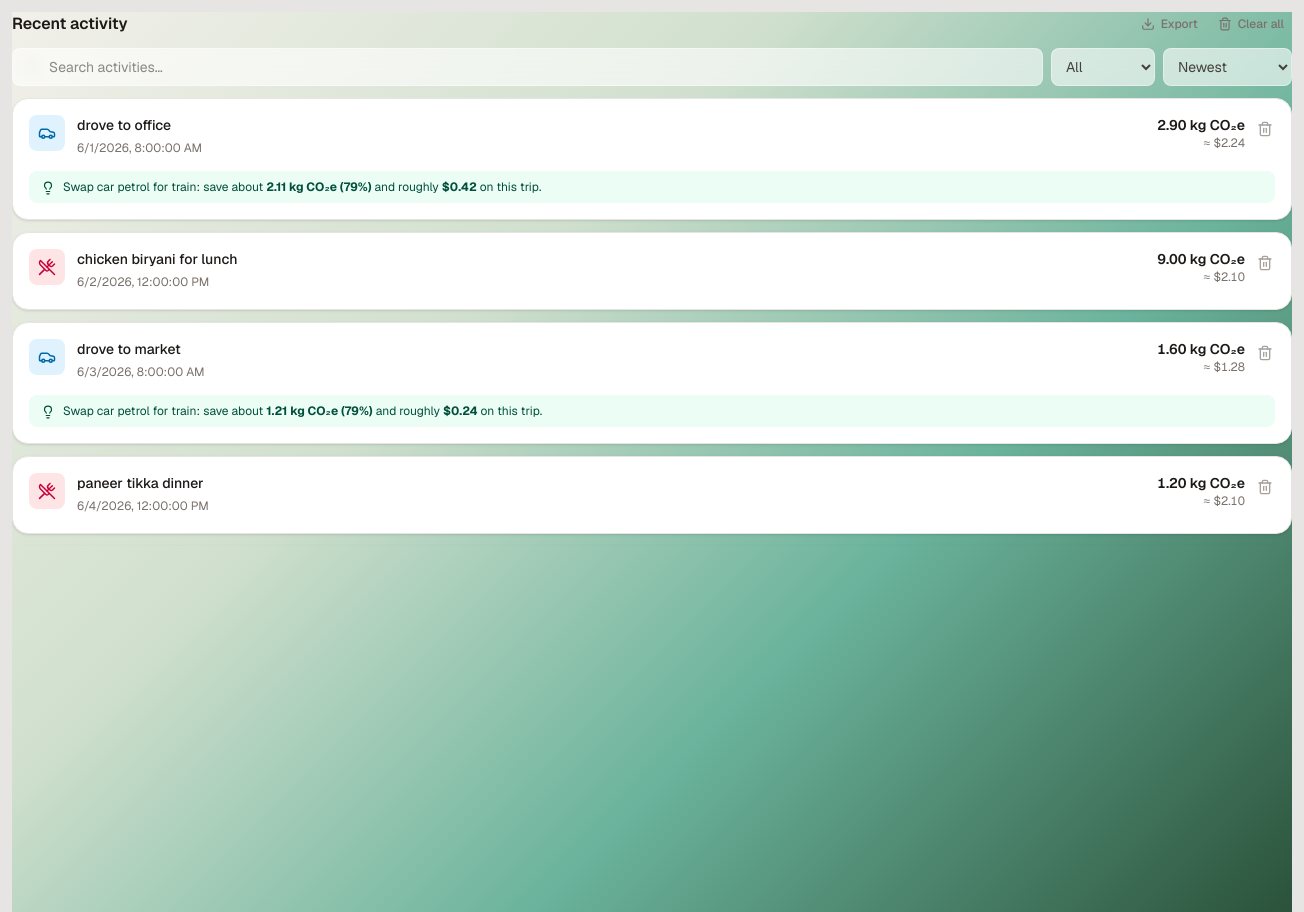
Scenario: RecentActivity › filters by category
Select "Food" in the dropdown named "filter by category" at (1103, 67), box [1051,48,1155,86]
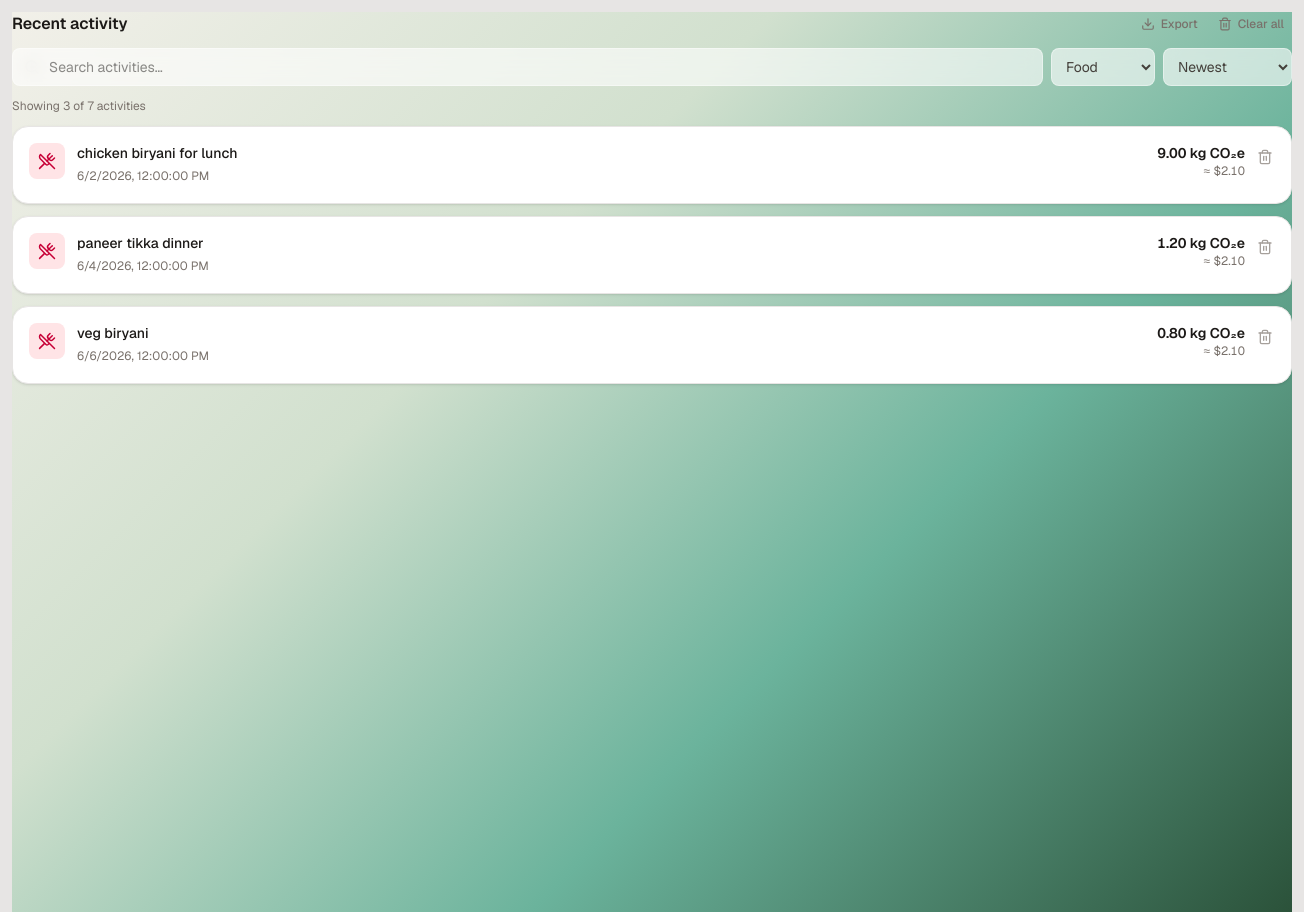
Expected: the text "chicken biryani for lunch" is shown, [77,143,238,163]
Expected: the text "drove to office" is gone
